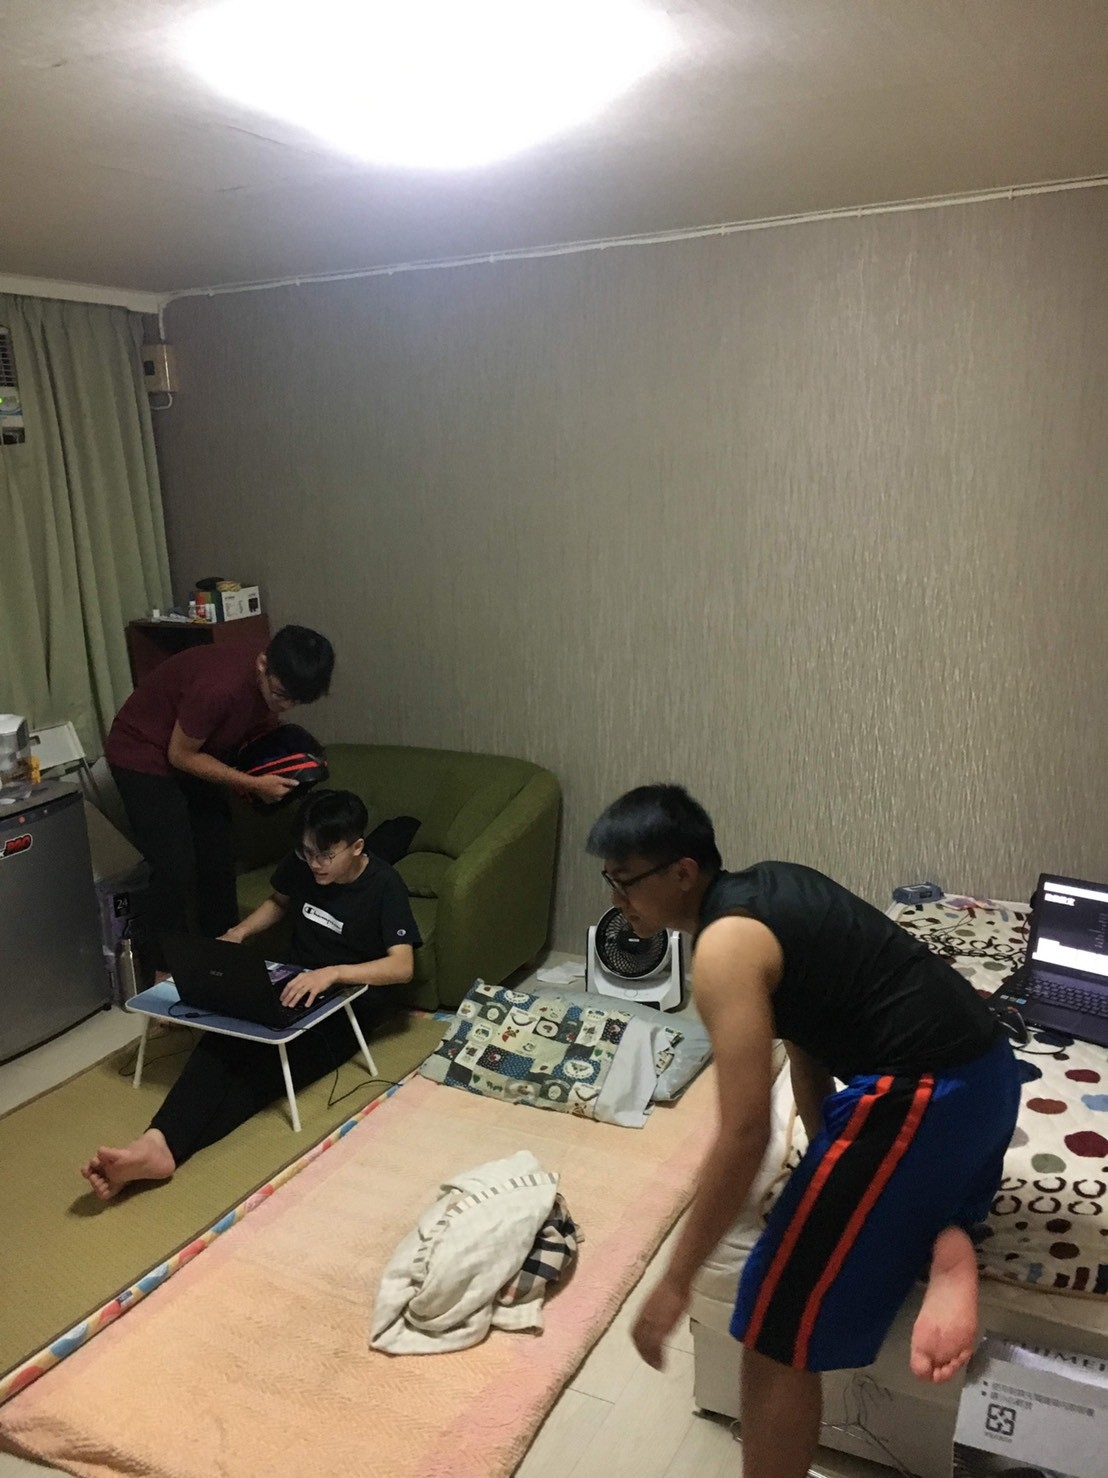people: (590, 788, 1026, 1476), (109, 623, 340, 945), (269, 793, 428, 1097)
